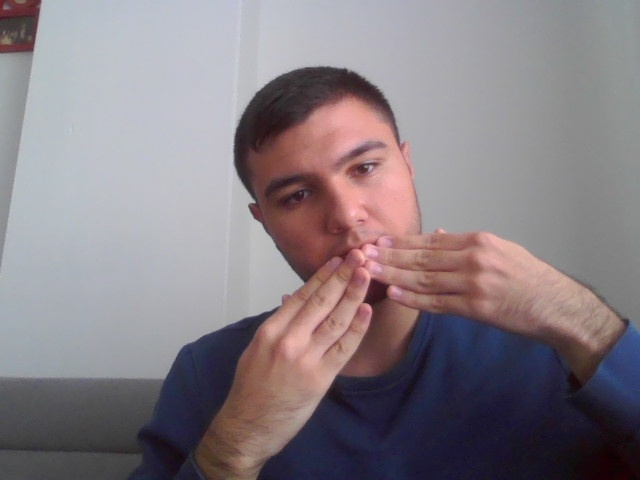thanks: (211, 232, 628, 435)
